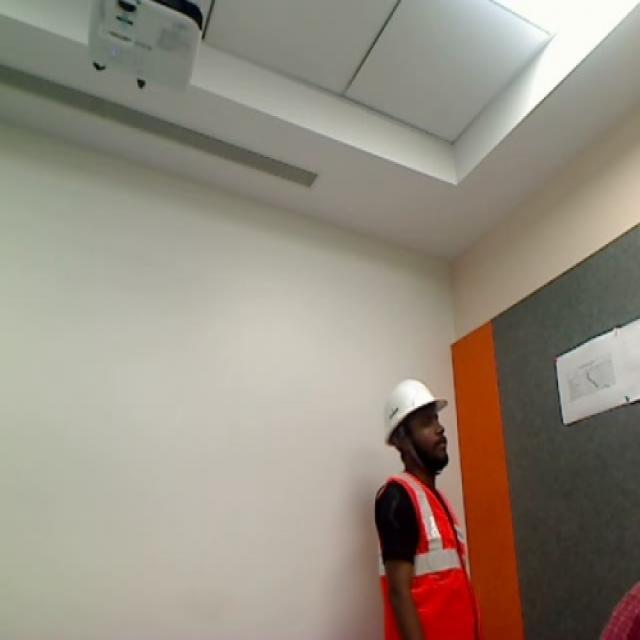safety_helmet: (374, 470, 486, 640)
